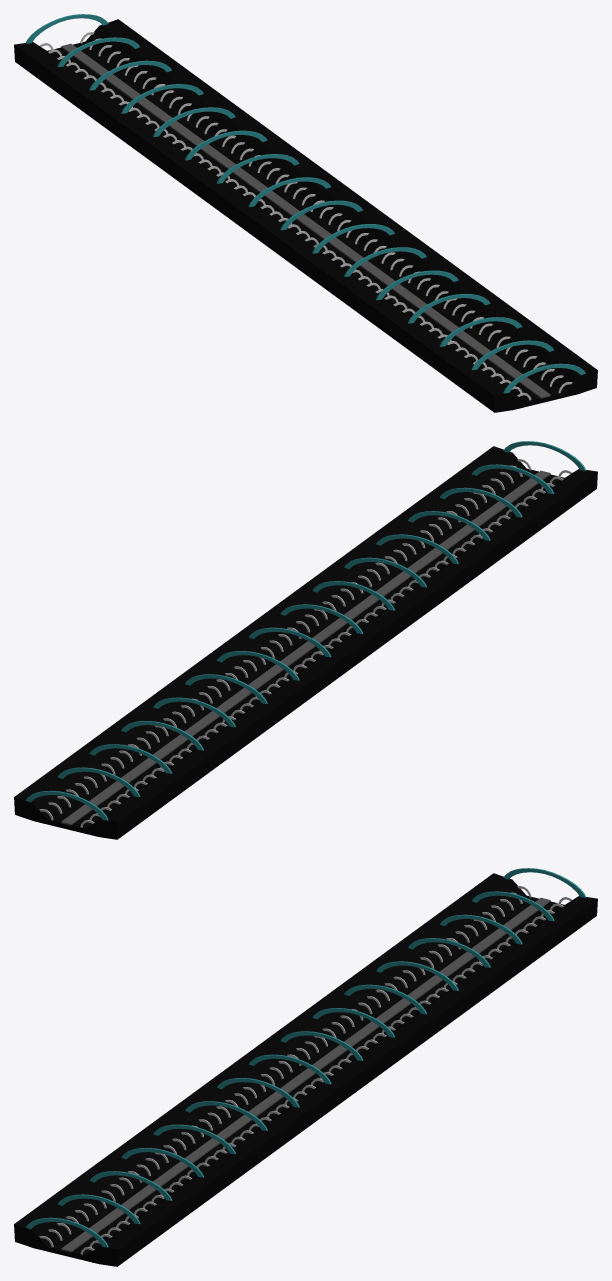
File: ArchParadiseV2 (2).fbx
3 views of the same model, one above another, from view 1: azimuth 30°, elevation 25°; view 2: azimuth 150°, elevation 25°; view 3: azimuth 330°, elevation 25° (orthographic).
Parts seen in each view (by area): view 1: Plane.004, Plane.005, Plane.002, Plane.006, Plane, Plane.003; view 2: Plane.004, Plane.005, Plane.002, Plane.006, Plane, Plane.003; view 3: Plane.006, Plane.003, Plane.002, Plane.004, Plane, Plane.005.
Boxes of the visible parts, x1,y1,x2,y2 form: Plane.004: [14, 42, 512, 412]; Plane.005: [85, 25, 578, 397]; Plane.002: [47, 41, 564, 406]; Plane.006: [100, 19, 597, 393]; Plane: [61, 43, 550, 398]; Plane.003: [35, 43, 526, 409]; Plane.004: [99, 469, 597, 839]; Plane.005: [33, 452, 526, 824]; Plane.002: [47, 468, 564, 833]; Plane.006: [14, 446, 511, 820]; Plane: [61, 470, 550, 825]; Plane.003: [85, 470, 576, 836]; Plane.006: [99, 896, 597, 1266]; Plane.003: [33, 879, 526, 1251]; Plane.002: [47, 895, 564, 1260]; Plane.004: [14, 873, 511, 1247]; Plane: [61, 897, 550, 1252]; Plane.005: [85, 897, 576, 1263].
Size of what is drawn, in the model's own units: 12571 by 4057 by 100000.
